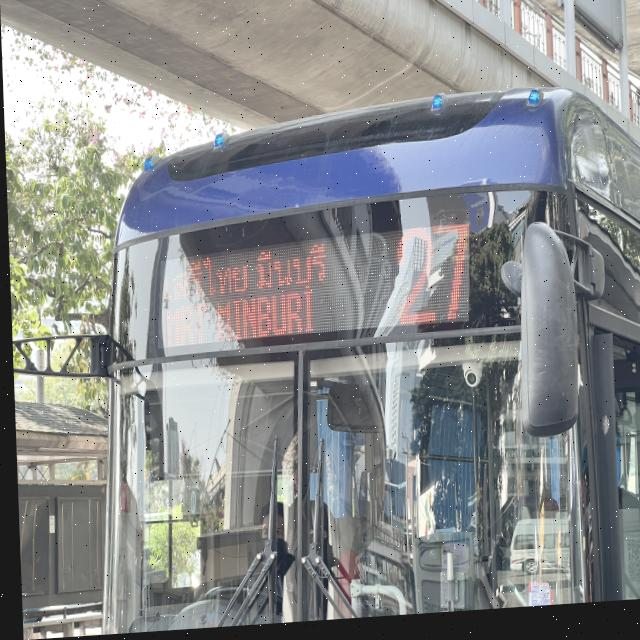Bus-Line-Number: (385, 217, 479, 344)
Destination-Sign-Normal: (152, 244, 345, 350)
TSB-Bus: (81, 89, 640, 636)
